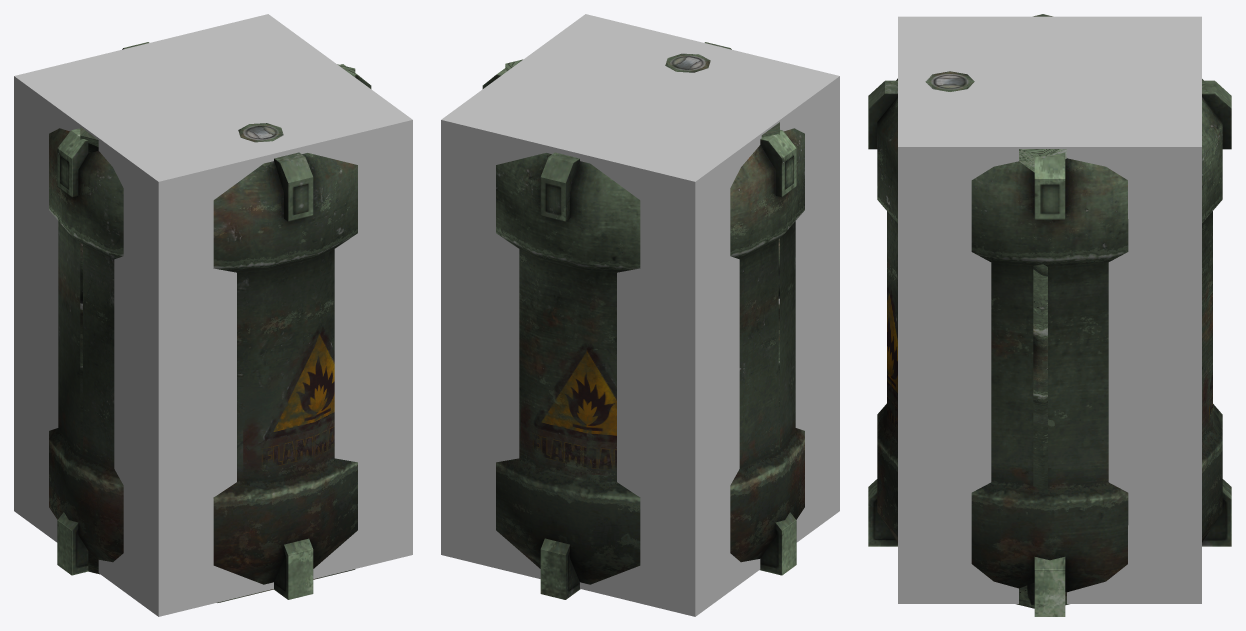
Rendered from SciFi_barrel.DAE.
The picture shows the model from 3 angles, left to right: view 1: azimuth 30°, elevation 25°; view 2: azimuth 150°, elevation 25°; view 3: azimuth 270°, elevation 25°; orthographic projection. The views are drawn at different scales.
Parts seen in each view (by area): view 1: bounds, LP_barrelNew, col-01; view 2: bounds, LP_barrelNew, col-01; view 3: bounds, LP_barrelNew, col-01.
Boxes of the visible parts, bbox=[...] form: bounds: bbox=[14, 14, 412, 616]; LP_barrelNew: bbox=[49, 42, 371, 599]; col-01: bbox=[80, 64, 355, 602]; bounds: bbox=[441, 14, 839, 616]; LP_barrelNew: bbox=[482, 42, 804, 599]; col-01: bbox=[505, 59, 779, 448]; bounds: bbox=[898, 16, 1201, 603]; LP_barrelNew: bbox=[868, 71, 1231, 616]; col-01: bbox=[1016, 14, 1069, 608].
Size of the model in its own units: 88.06 by 88.06 by 123.
